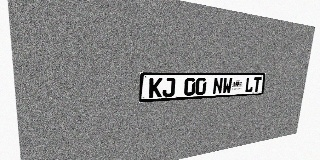plate: (139, 72, 266, 103)
